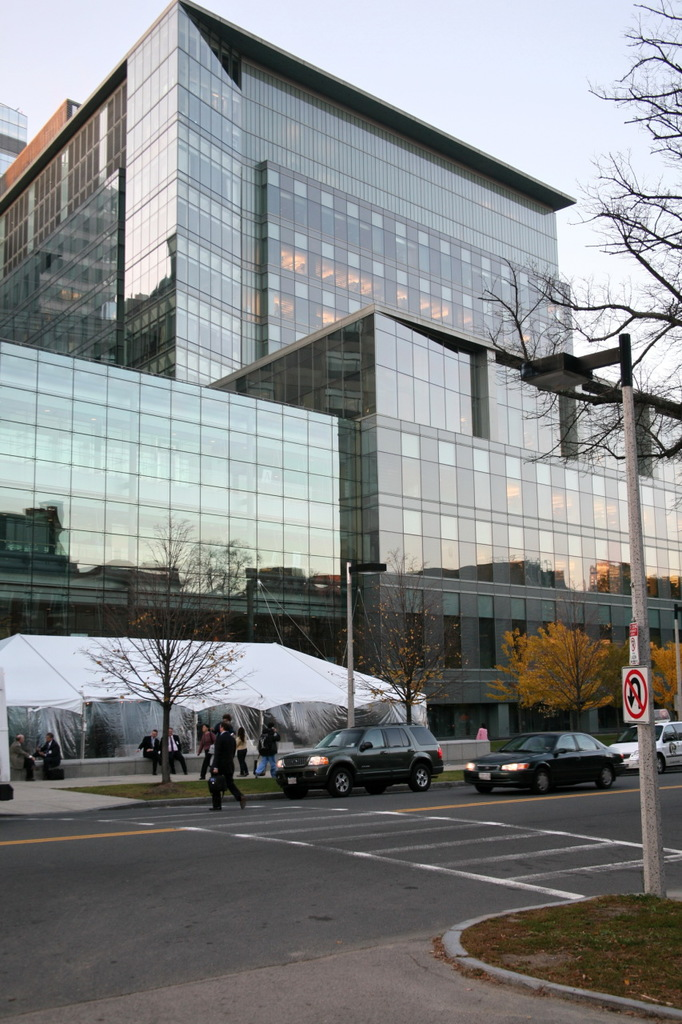Car: (293, 720, 455, 806), (459, 735, 628, 792), (610, 722, 681, 771)
